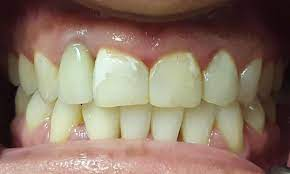LL1BC_healthy: (245, 105, 267, 133)
LL2BC_healthy: (268, 104, 279, 126)
LLCI_healthy: (152, 106, 181, 144)
LLC_healthy: (218, 106, 246, 155)
LLLI_healthy: (182, 107, 213, 148)
LR1BC_healthy: (28, 94, 50, 128)
LR2BC_healthy: (15, 93, 29, 118)
LRCI_healthy: (121, 106, 151, 140)
LRC_healthy: (53, 101, 84, 142)
LRLI_healthy: (83, 103, 119, 141)
UL1BC_healthy: (261, 60, 274, 102)
ULCI_healthy: (151, 49, 201, 108)
ULC_healthy: (240, 57, 261, 105)
ULLI_healthy: (202, 48, 239, 106)
UR1BC_healthy: (18, 55, 37, 94)
UR2BC_healthy: (6, 54, 19, 85)
URCI_healthy: (93, 49, 149, 106)
URC_healthy: (34, 55, 58, 104)
URLI_healthy: (57, 44, 93, 104)
